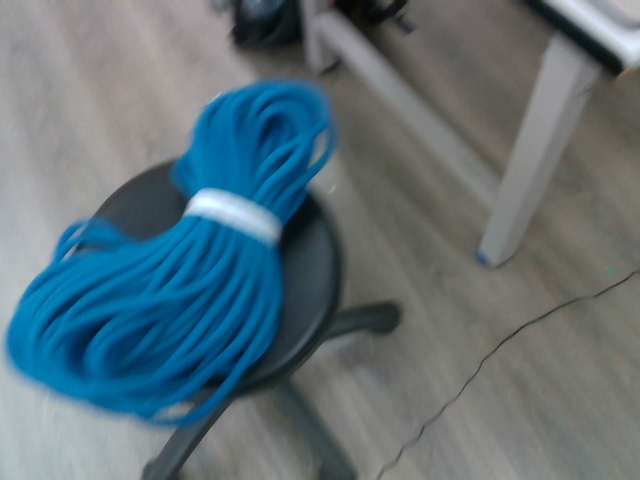rope: (6, 76, 340, 428)
